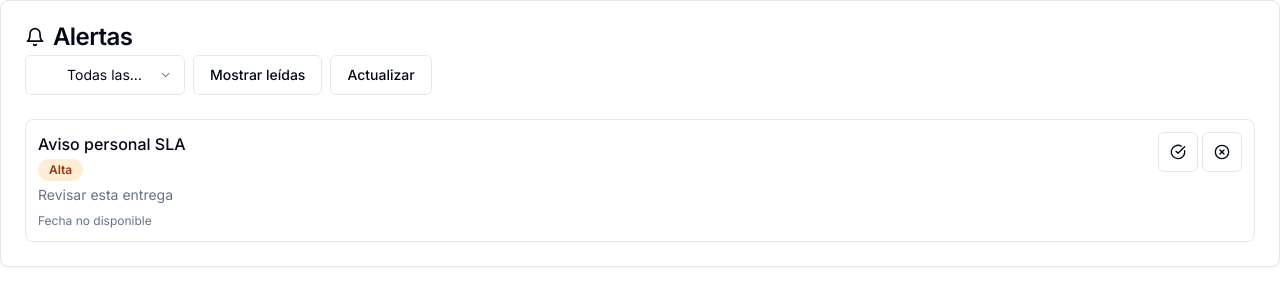
Test: the panel uses the real personal read endpoint without claiming an operational resolution
Expected: the text "Aviso personal SLA" is shown, [38,132,186,156]
Expected: the text "Alta" is shown, [38,159,83,181]
Click the button titled "Marcar como leída" at (1178, 152), box [1158,132,1198,172]
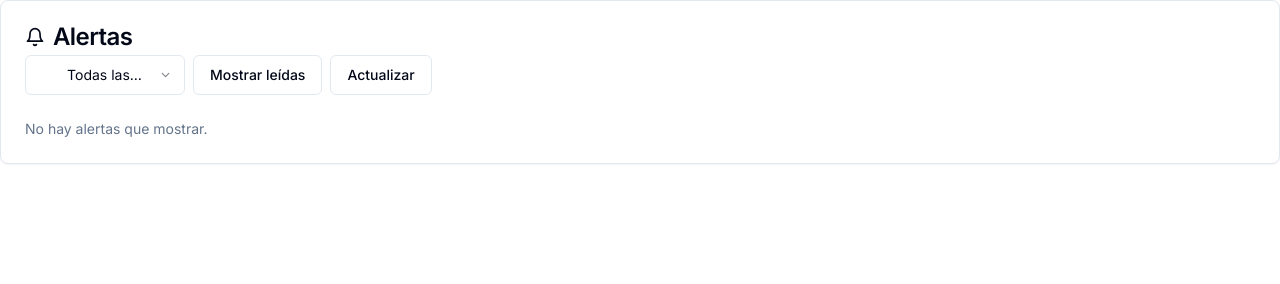
Expected: the text "Aviso personal SLA" is gone
